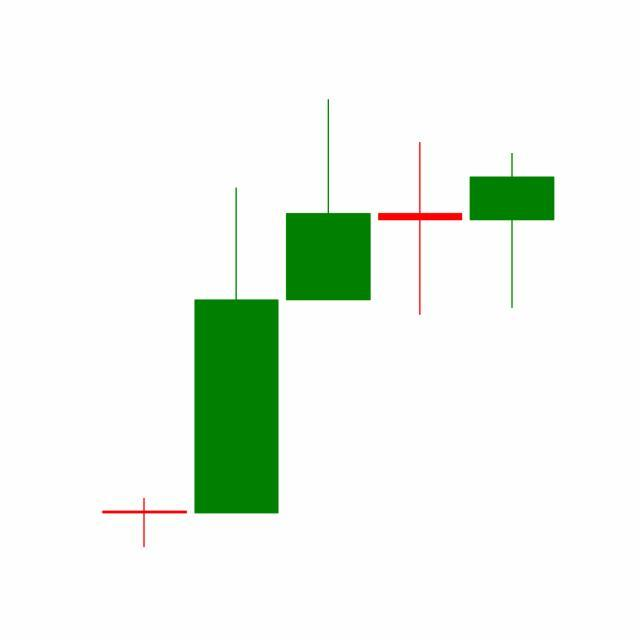Spinning Top: (374, 141, 468, 318)
